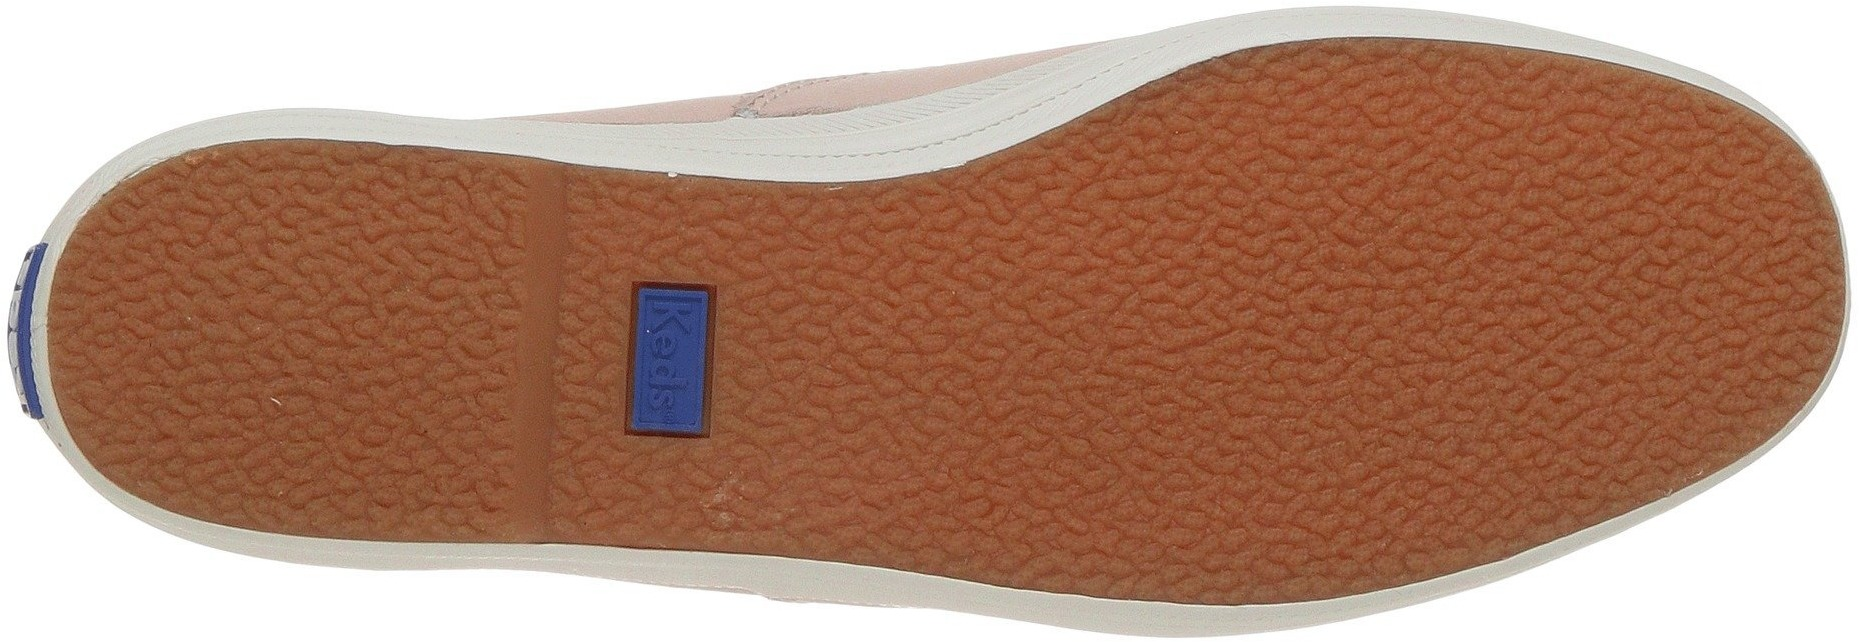other: (755, 208, 1072, 556), (1078, 326, 1340, 583), (1299, 68, 1554, 327), (1558, 159, 1809, 398), (87, 223, 313, 458), (305, 176, 518, 405), (1344, 333, 1567, 538), (1079, 134, 1295, 320)
quad: (588, 276, 756, 441)
text: (635, 302, 716, 380), (628, 384, 685, 439)
